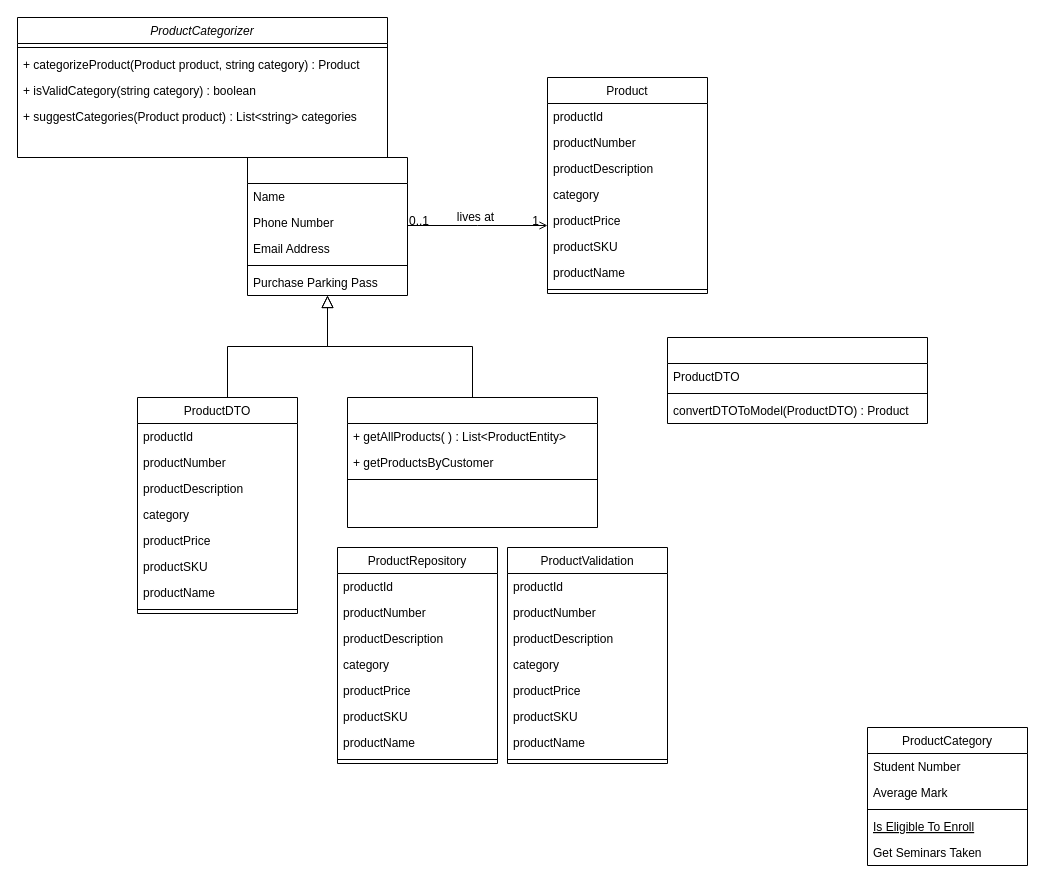
Some shapes in this 1045 by 886 pixel diagram are drawn without their labels. The shapes that lost their labels are listed below. From the top down, each one's box as (x1, y1, x2, y2) in pixels, then its label:
(246, 156, 408, 296): ProductService
(666, 336, 928, 424): ProductMapper
(346, 396, 598, 528): ProductController
